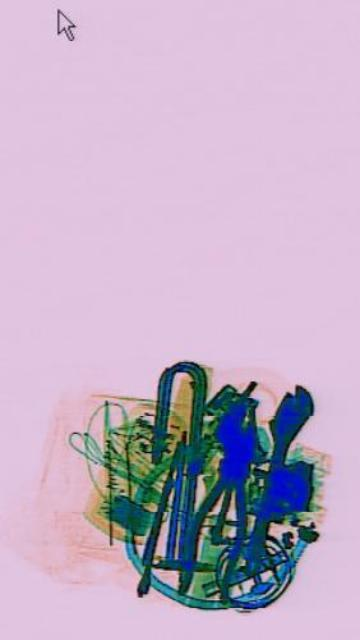Pliers: (169, 380, 271, 620)
Wrench: (226, 371, 313, 589)
